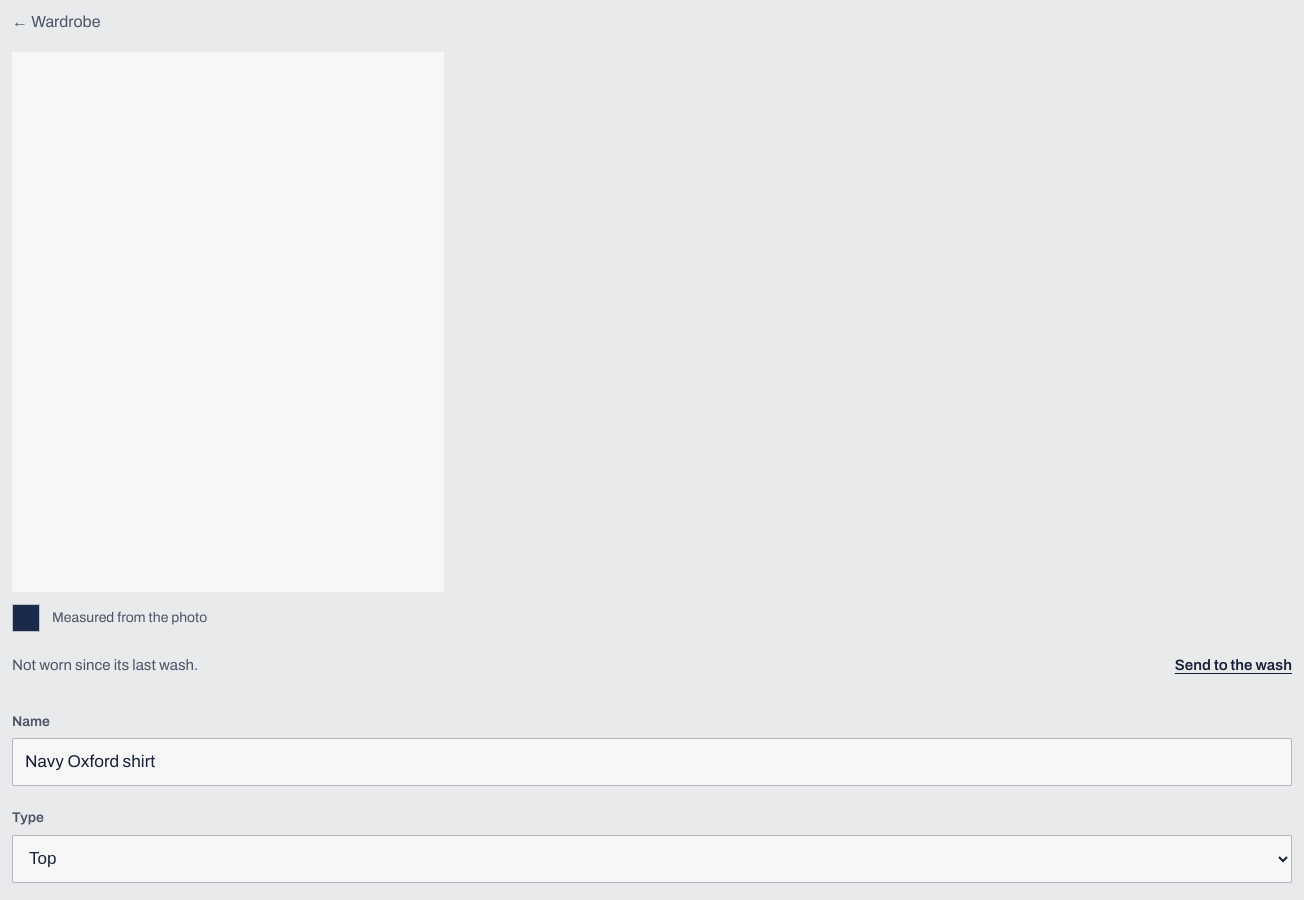
Piece screen › uses the new type's usual wear count when you change the type
Select "Trousers" in the dropdown labelled "Type" at [652, 859], box [12,835,1292,883]
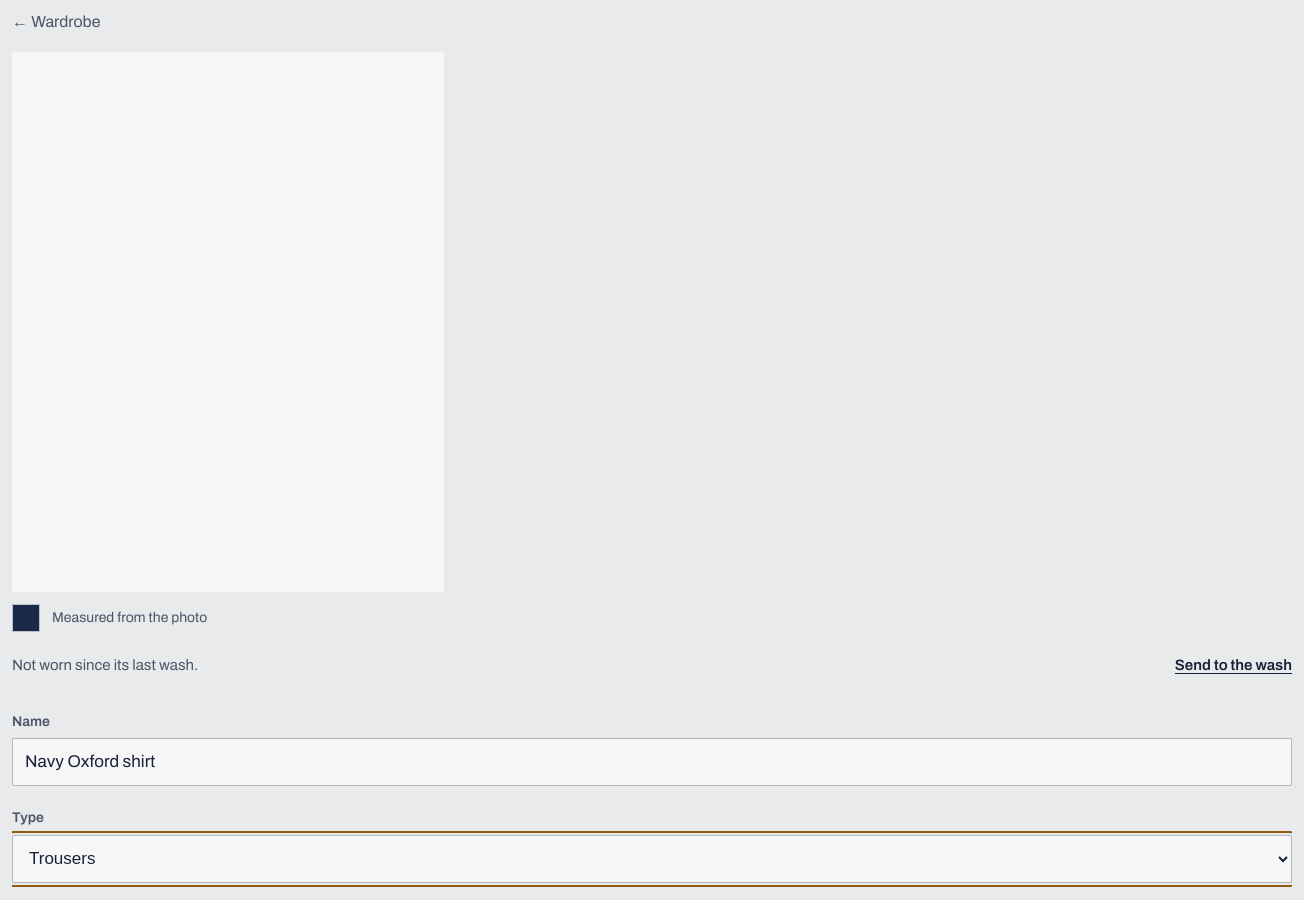
Select "Shoes" in the dropdown labelled "Type" at [652, 859], box [12,835,1292,883]
(page scrolled)
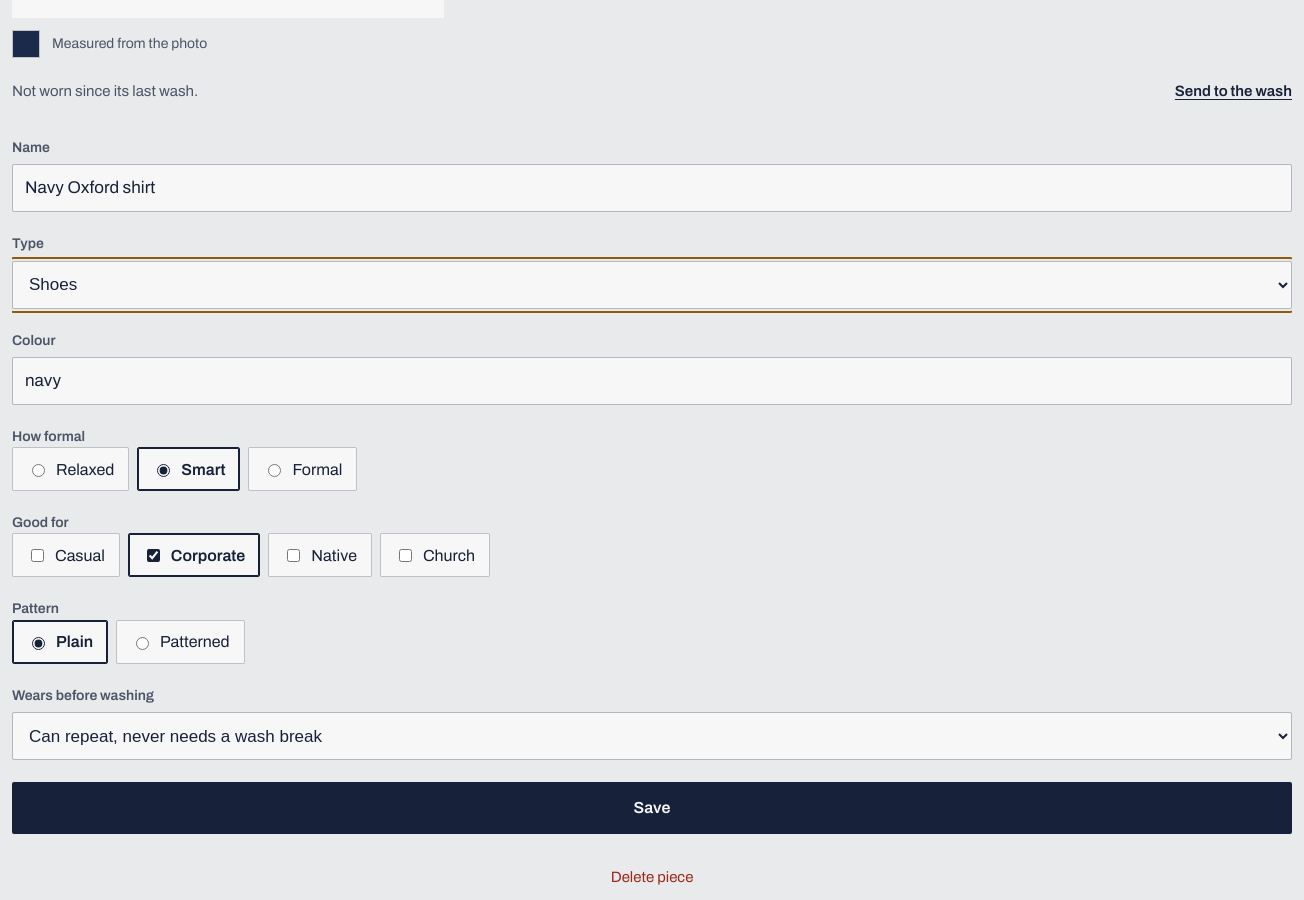
Now the dropdown labelled "Wears before washing" shows "Can repeat, never needs a wash break", box [12,712,1292,760]
